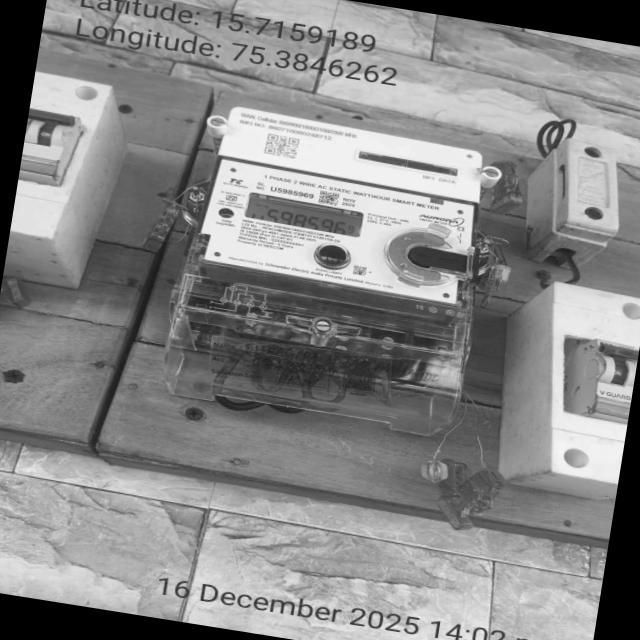meter: (206, 95, 488, 308)
